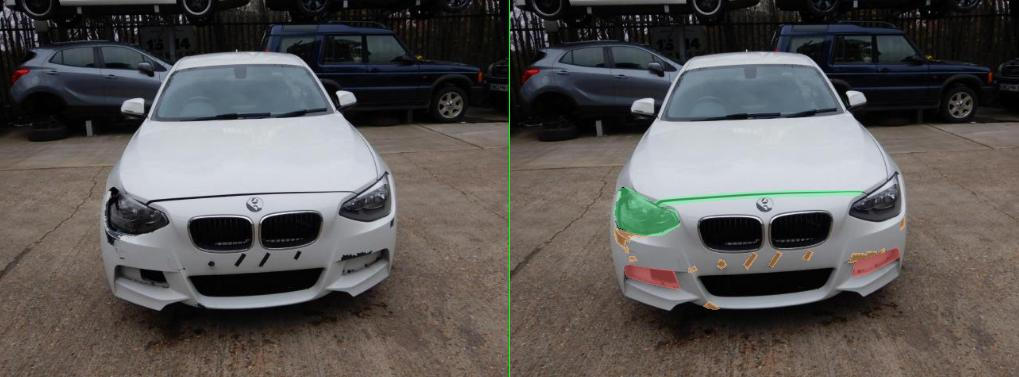Broken part: (286, 190, 705, 207), (206, 187, 338, 235)
Missing part: (683, 247, 779, 276), (228, 264, 338, 289)
Paint chip: (208, 226, 280, 249), (675, 248, 749, 262), (466, 252, 494, 269), (517, 251, 545, 267), (386, 301, 418, 309), (585, 250, 607, 260), (414, 259, 432, 269), (781, 216, 789, 230), (695, 269, 711, 276), (753, 255, 767, 262), (238, 256, 254, 261), (364, 265, 374, 271), (727, 263, 737, 269), (230, 245, 236, 253), (685, 268, 693, 274), (356, 267, 362, 272)
